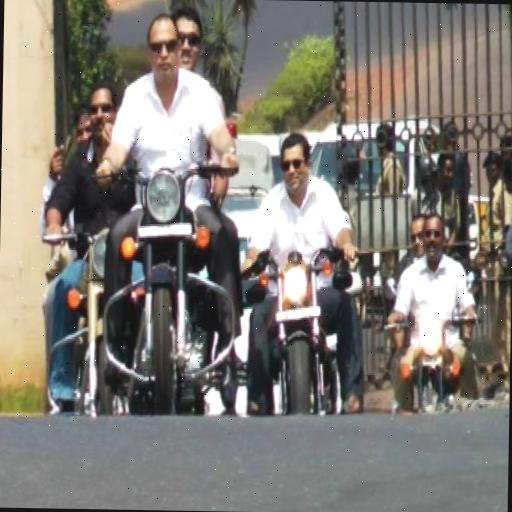no helmet: (102, 6, 237, 428), (252, 122, 362, 416), (43, 66, 123, 401), (382, 210, 488, 414)
